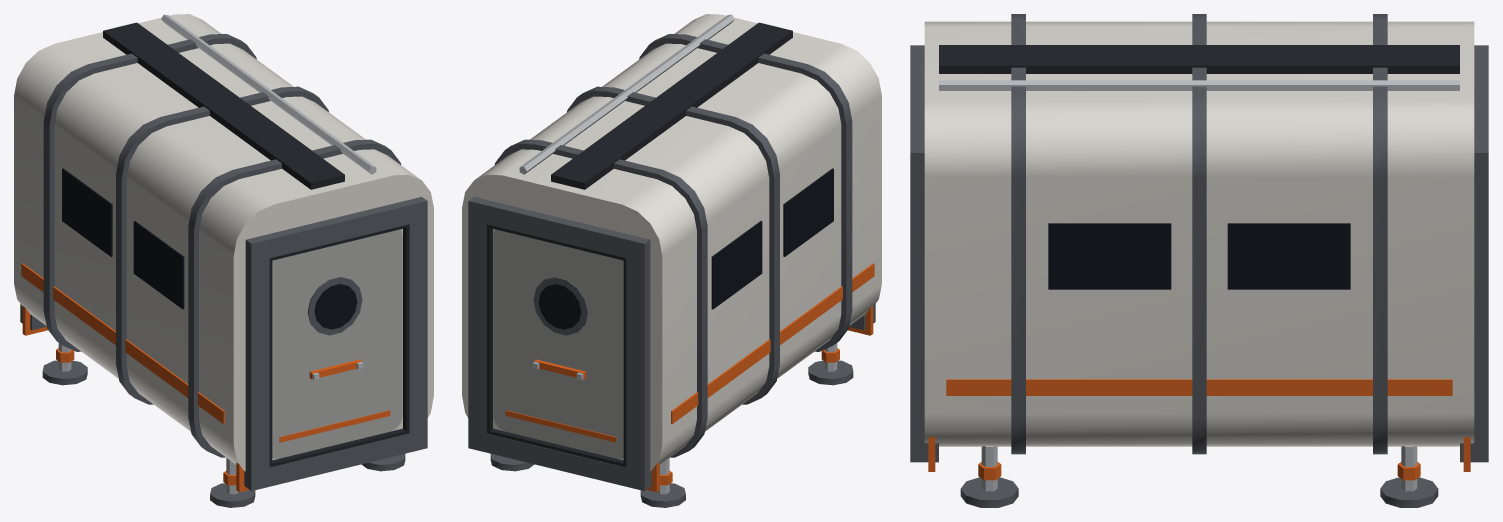
The model's file is corridor_straight.glb.
3 renders of one model, left to right at view 1: azimuth 30°, elevation 25°; view 2: azimuth 150°, elevation 25°; view 3: azimuth 270°, elevation 25°, orthographic. The views are drawn at different scales.
Parts seen in each view (by area): view 1: body, hatch_n; view 2: body, hatch_s; view 3: body.
Boxes of the visible parts, <box> form: body: <box>14,14,433,507</box>; hatch_n: <box>272,229,402,458</box>; body: <box>462,14,881,507</box>; hatch_s: <box>493,229,623,458</box>; body: <box>910,14,1488,507</box>.
Bounding box in the file's own units: 2.1 × 3.03 × 4.
